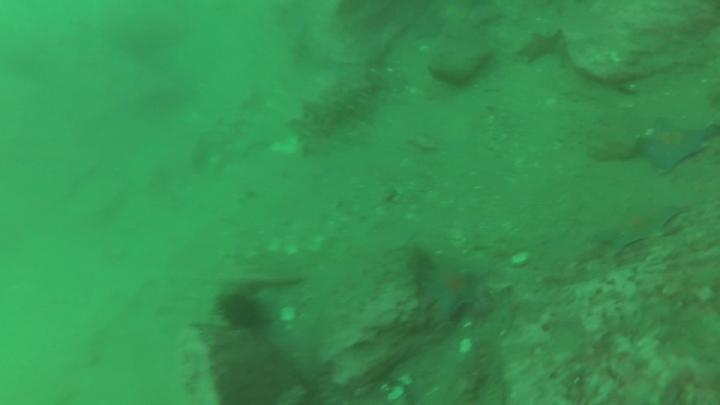echinus: (206, 290, 275, 342)
holothurian: (298, 76, 388, 140)
starfish: (594, 201, 688, 254), (636, 113, 713, 177), (414, 260, 482, 327), (513, 29, 566, 69), (410, 3, 451, 45)
